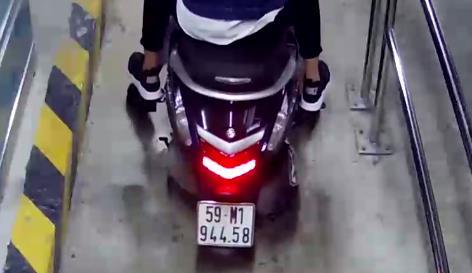lisence: (196, 201, 253, 247)
